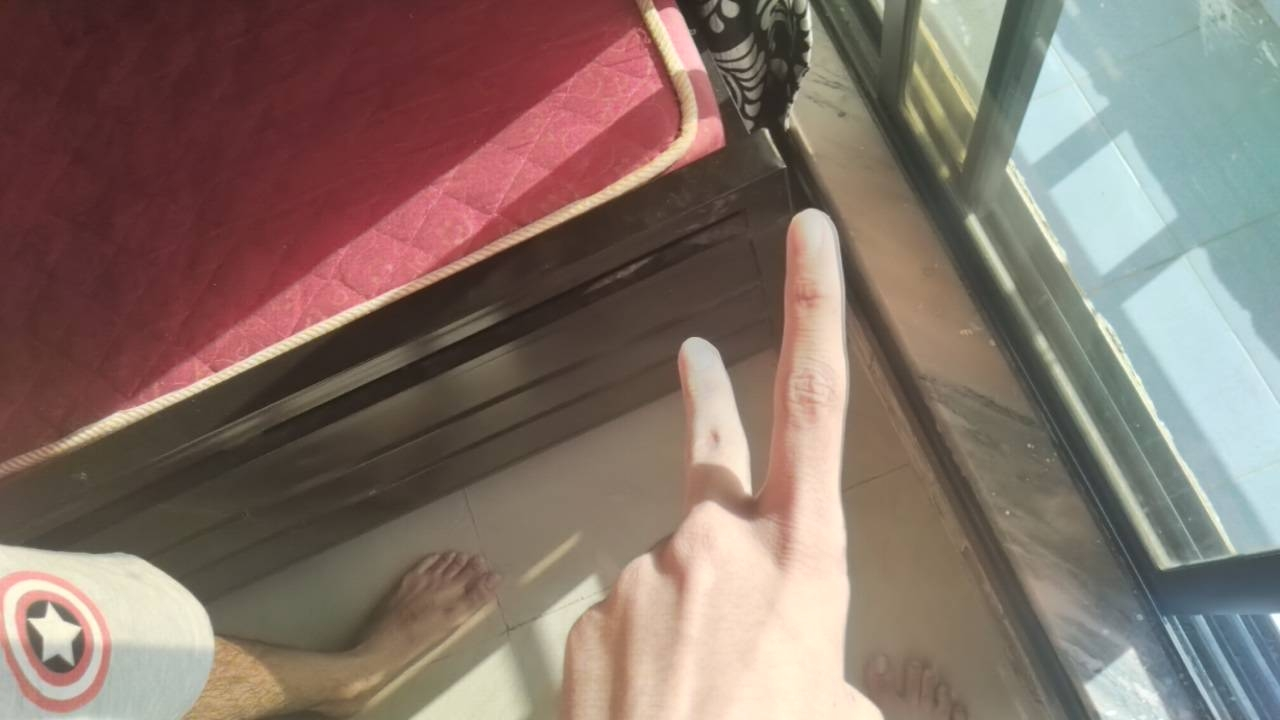fingertip: (776, 202, 846, 272), (666, 332, 734, 392)
